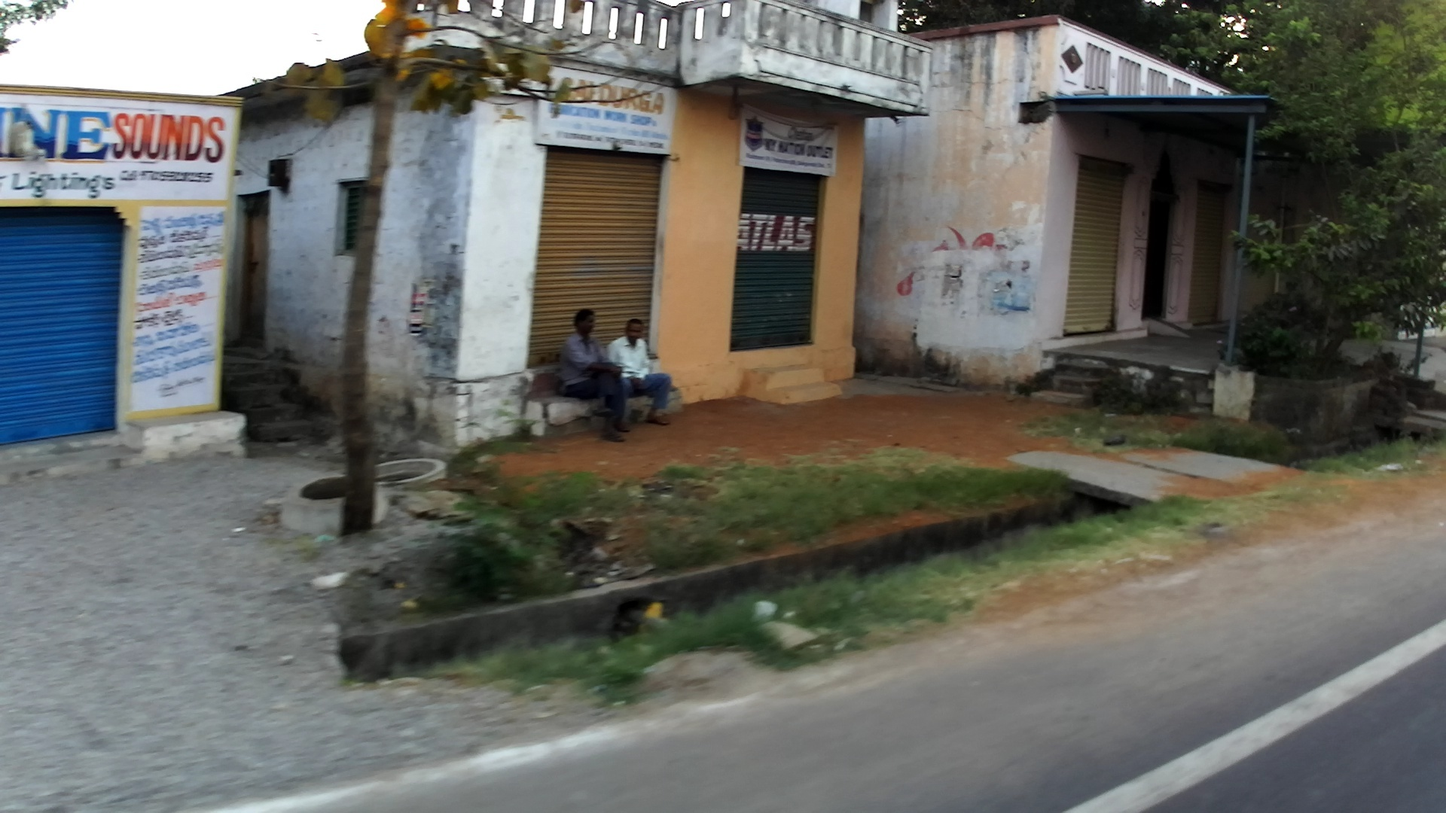person: (556, 306, 636, 449), (606, 315, 675, 429)
